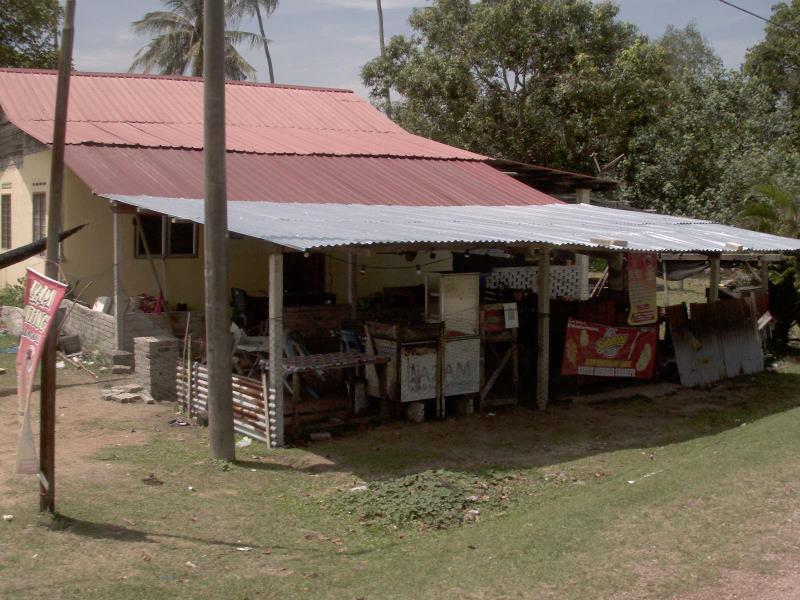ads_sign: (550, 315, 664, 389)
